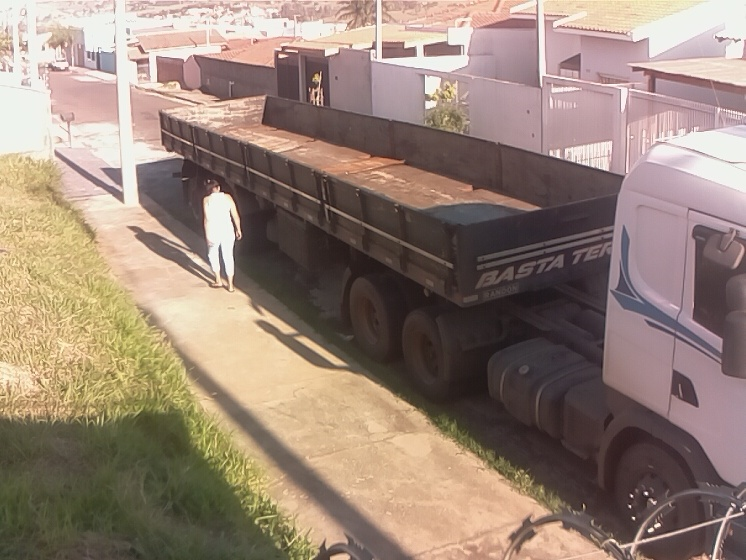person: (198, 175, 241, 294)
